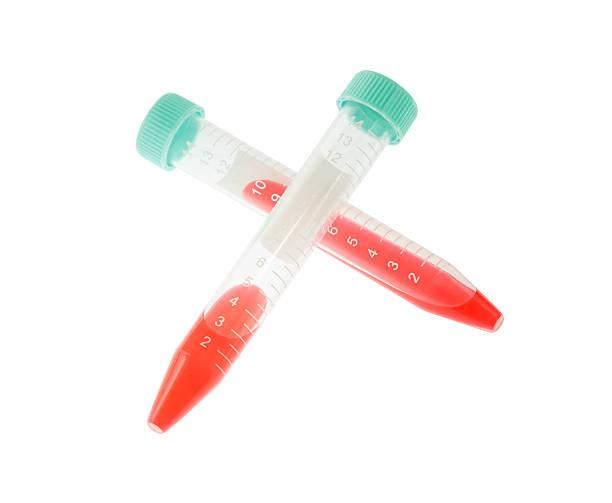Test tube: (69, 35, 509, 457)
